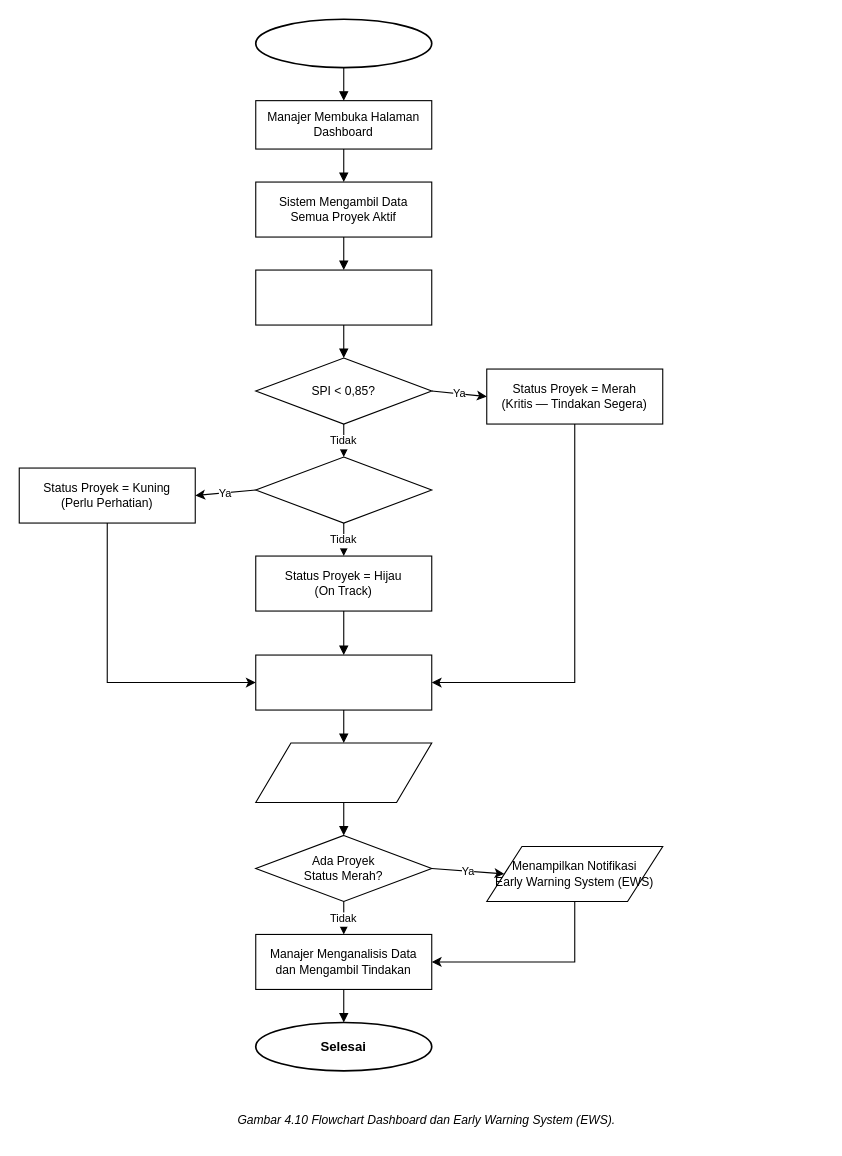
This 842x1156 diagram has some shape labels left out. Each missing label, with the centre of its shape:
Menampilkan Dashboard: Kartu Status RAG, Grafik Progres, dan Tabel Proyek: the point at 343,772
Mulai: the point at 343,43
Sistem Menghitung Nilai SPI Tiap Proyek (EV / PV): the point at 343,297
Sistem Mengurutkan Proyek: Merah → Kuning → Hijau: the point at 343,682
SPI < 0,95?: the point at 343,489
